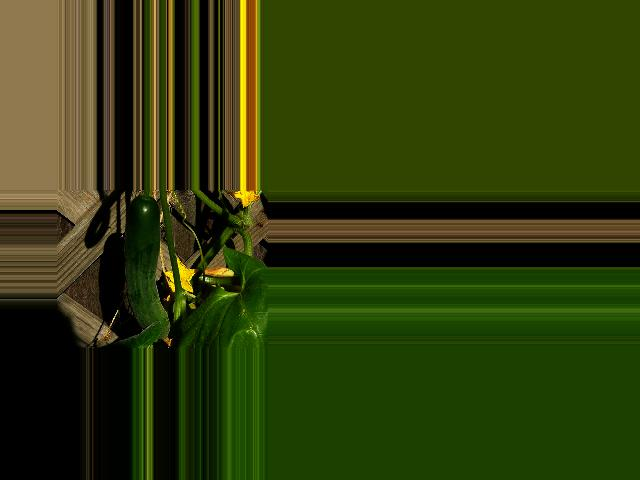cucumber: (123, 197, 169, 347)
